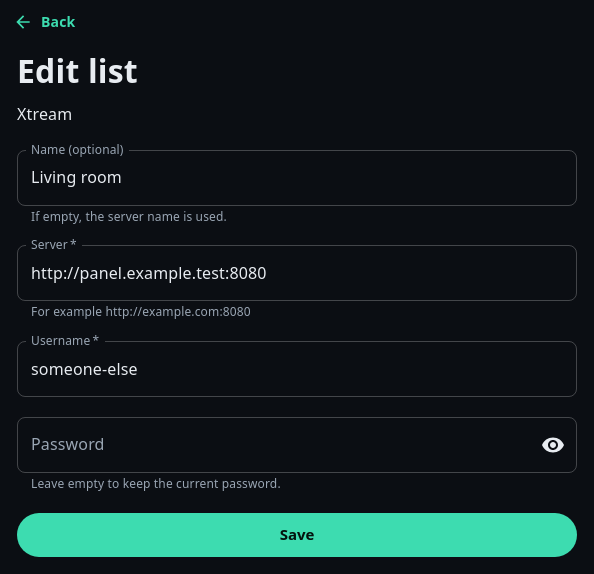
Test case: SRC-08 AC2 — Xtream credentials are re-tested before applying › stored password unreadable → asks to type it again, nothing sent
Replace the text in the field labelled "Username *" with "jdoe". click: [297, 369]
box: [17,341,577,397]
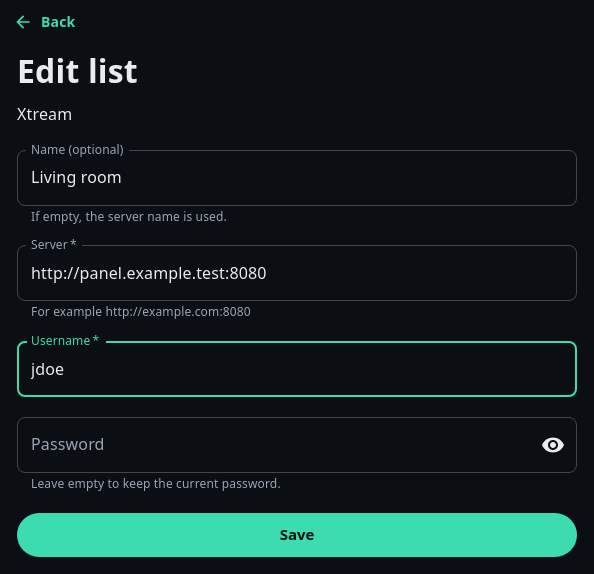
Click the button "Save". click: [297, 535]
box: [17,513,577,557]
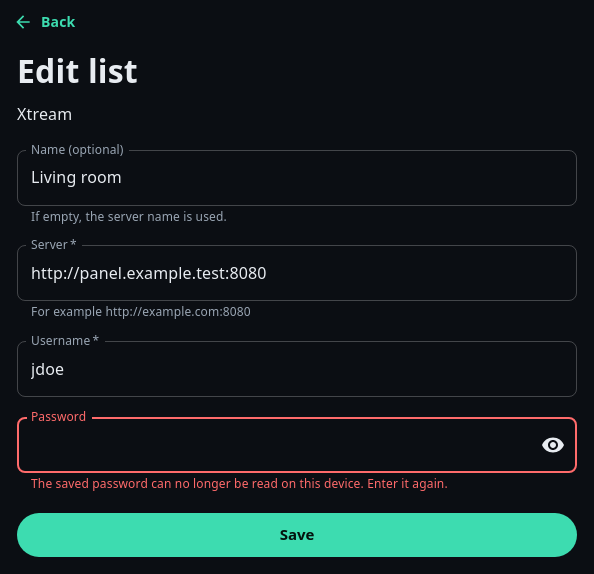
Check: the text "The saved password can no longer be read on this device. Enter it again." is shown, box [31,475,448,492]
